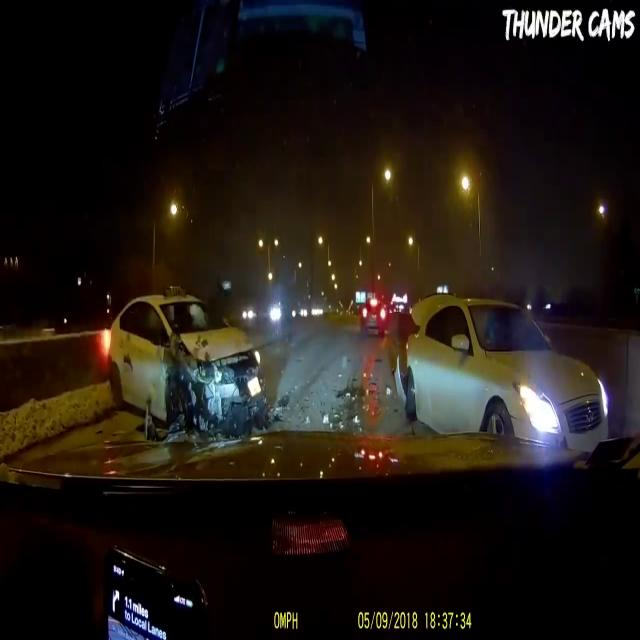accident: (374, 279, 592, 470), (103, 291, 280, 449)
